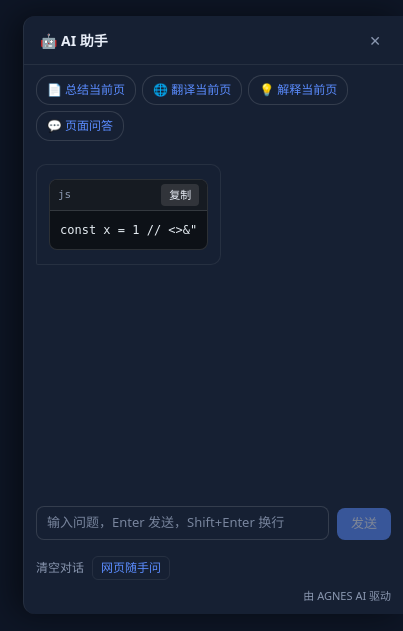
Test: AISidebar：消息区 › 代码块复制：data-code 解码写剪贴板，成功反馈"已复制 ✓"
Click the button with class "code-copy": (180, 195) [161, 184, 199, 206]
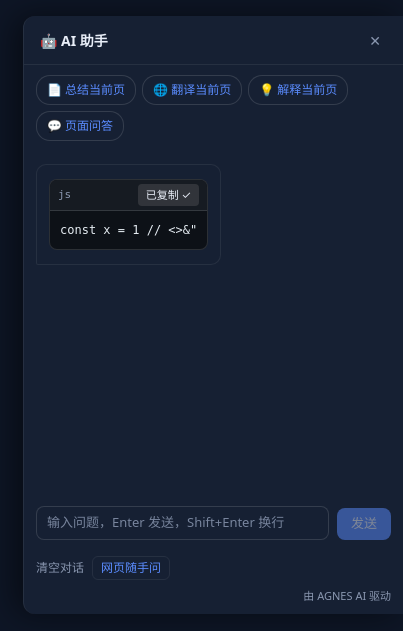
Expected: the button with class "code-copy" reads "已复制 ✓", [138, 184, 199, 206]
